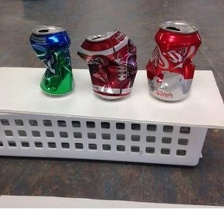can: (75, 25, 141, 102), (144, 18, 202, 103), (27, 22, 77, 95)
